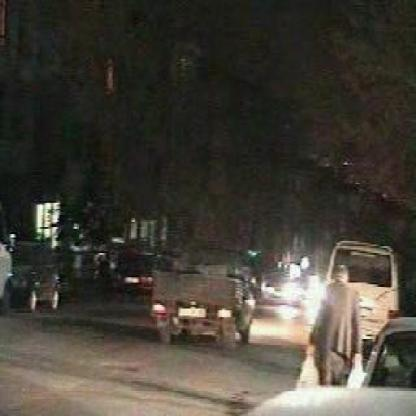other: (248, 254, 332, 348)
